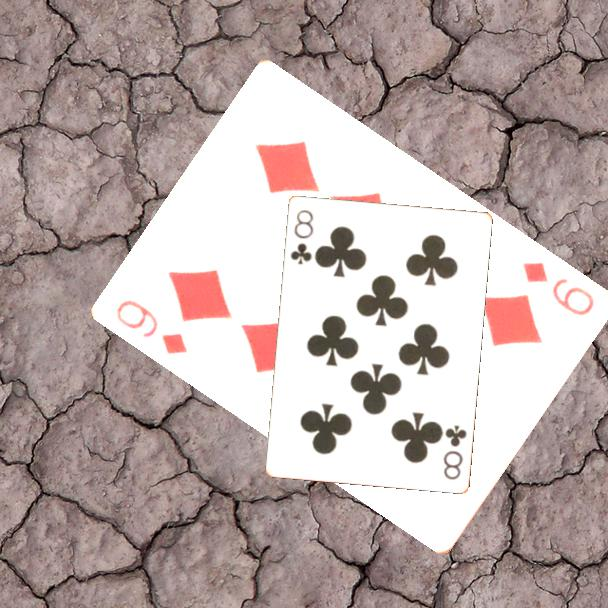c08: (439, 421, 469, 482), (287, 206, 316, 267)
d09: (113, 295, 191, 358), (519, 258, 598, 319)
